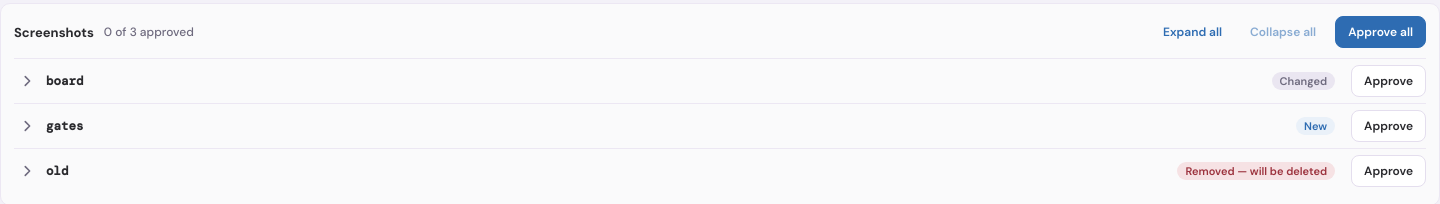
it: a row's Approve sends only that screen
Click the button "Approve" next to "New". click: (1389, 126)
box: [1351, 110, 1426, 142]
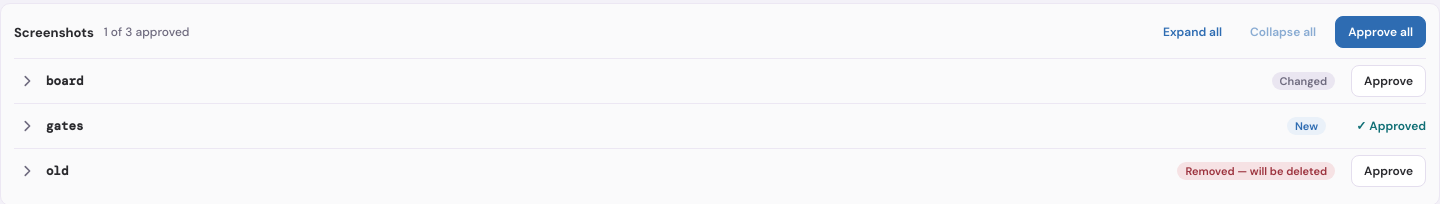
Expected: the button "Approve" next to "Changed" is shown, [1351, 65, 1426, 97]
Result: the text "1 of 3 approved" is shown at [104, 24, 190, 40]
Result: the text "✓ Approved" is shown at [1356, 118, 1426, 134]
